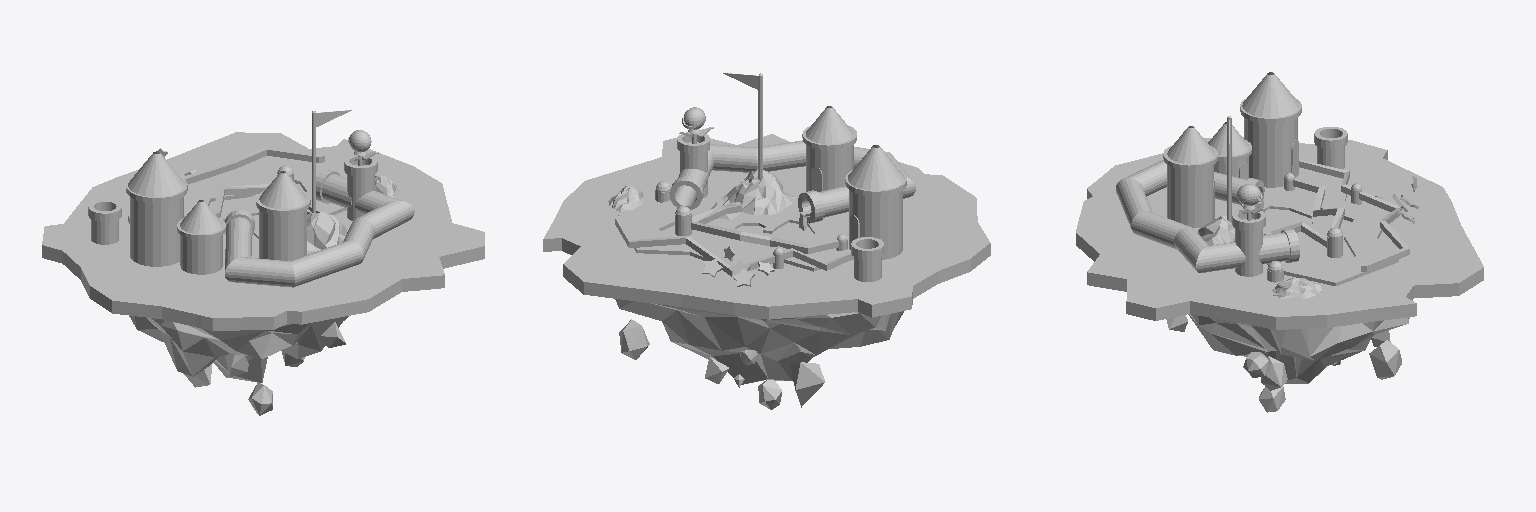
Rendered from island.obj.
3 renders of one model, left to right at view 1: azimuth 30°, elevation 25°; view 2: azimuth 150°, elevation 25°; view 3: azimuth 270°, elevation 25°, orthographic.
Parts seen in each view (by area): view 1: SRAE.1; view 2: SRAE.1; view 3: SRAE.1.
Part boxes in pixels (x1,y1,x2,y2): SRAE.1: (42, 110, 484, 415); SRAE.1: (543, 73, 990, 409); SRAE.1: (1076, 72, 1483, 412).
Size of the model in its own units: 22.49 by 18.16 by 21.57.